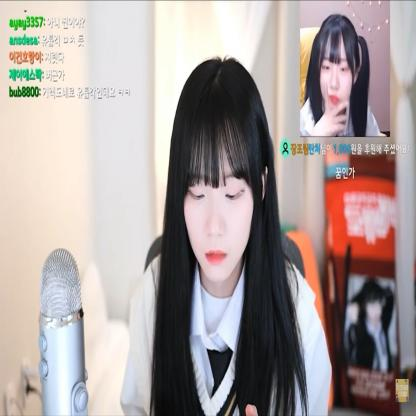donation: (278, 2, 414, 182)
streamer: (123, 57, 326, 416)
